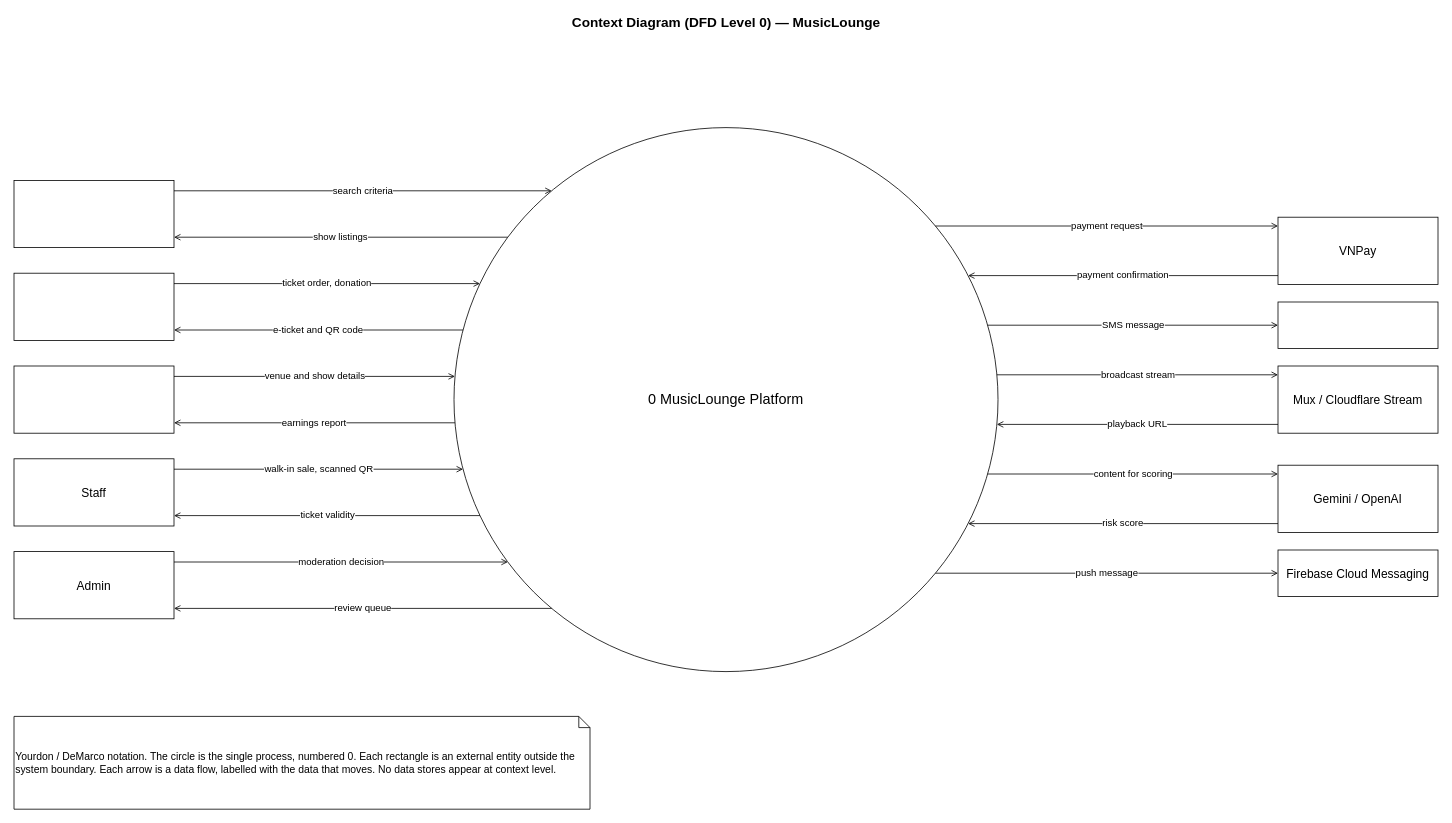
The diagram is 1452 pixels wide and 823 high, and some of its shapes have lost their labels. The shapes that lost their labels are listed below. From the top down, each one's centre as x and y in pixels, then its label:
pixel 93 214: Guest
pixel 93 306: Audience
pixel 1357 324: Twilio
pixel 93 399: Owner
